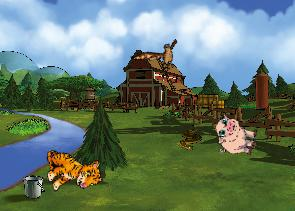eagle: (130, 27, 189, 84)
pig: (211, 113, 260, 159)
tiger: (41, 141, 103, 196)
